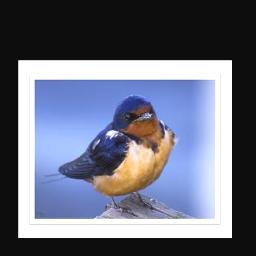Swallow: (40, 92, 180, 216)
